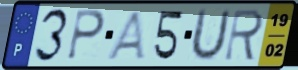3: (31, 6, 72, 64)
5: (152, 9, 185, 62)
A: (104, 9, 148, 62)
P: (65, 8, 107, 62)
R: (222, 8, 266, 63)
U: (187, 7, 233, 63)
